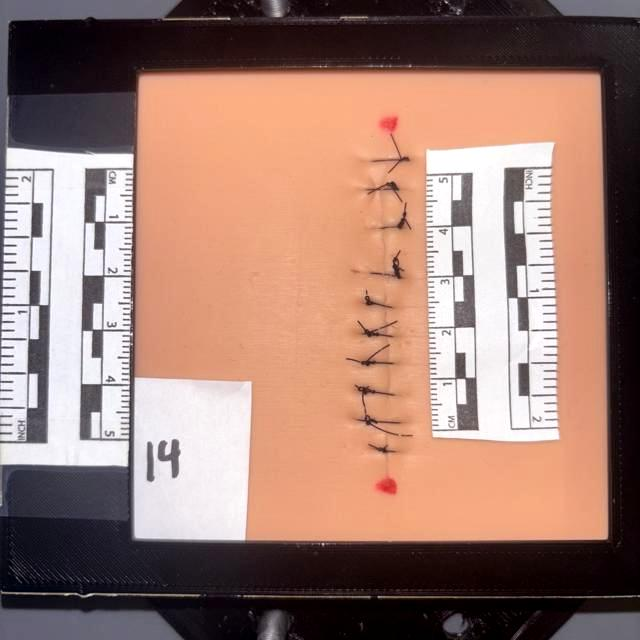incision_line: (381, 129, 388, 485)
scale_marker: (428, 327, 447, 379)
suture_d: (382, 188, 389, 228), (382, 228, 386, 274), (376, 160, 382, 190), (390, 422, 395, 452), (388, 308, 392, 335), (387, 336, 391, 363), (384, 363, 387, 394), (378, 274, 380, 304), (390, 394, 392, 422)
suture_l: (370, 271, 385, 278), (371, 301, 384, 308), (367, 188, 385, 193), (370, 390, 385, 396), (370, 333, 386, 338), (372, 158, 387, 162), (368, 362, 385, 364), (379, 226, 387, 230), (376, 422, 386, 424), (384, 450, 389, 453)
suture_r: (387, 158, 406, 162), (386, 272, 397, 278), (386, 187, 398, 192), (386, 226, 399, 230), (388, 421, 400, 424), (385, 334, 393, 338), (386, 392, 394, 396), (384, 304, 391, 308), (389, 450, 397, 453), (386, 362, 392, 364)
